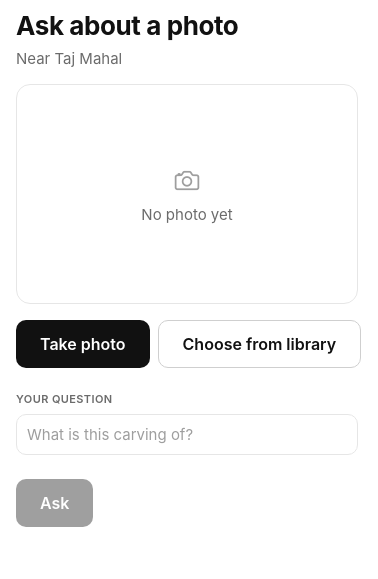
PhotoQAScreen › shows a typed error state when the question fails
This screenshot has width=378, height=579.
Click the button with test id "capture-photo-button" at (83, 344), box top-left (16, 320), bottom-right (150, 368)
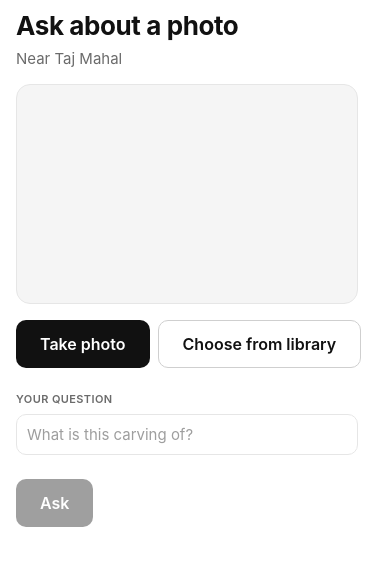
Now the element with test id "photo-preview" is shown, box top-left (16, 84), bottom-right (358, 304)
Type "What is this?" into the field with test id "photo-question-input" at (187, 434), box top-left (16, 414), bottom-right (358, 455)
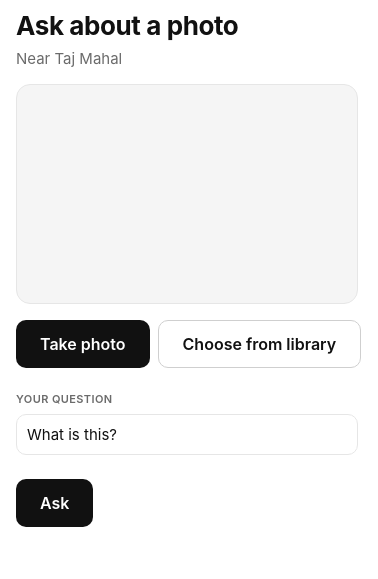
Click the button with test id "ask-photo-question-button" at (55, 503), box top-left (16, 479), bottom-right (93, 527)
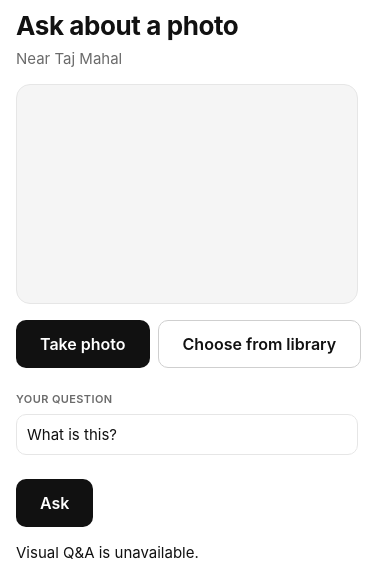
Now the text "Visual Q&A is unavailable." is shown, box top-left (16, 543), bottom-right (199, 562)
